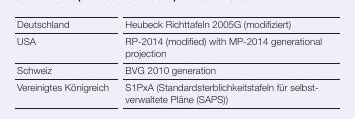table: (0, 0, 355, 119)
